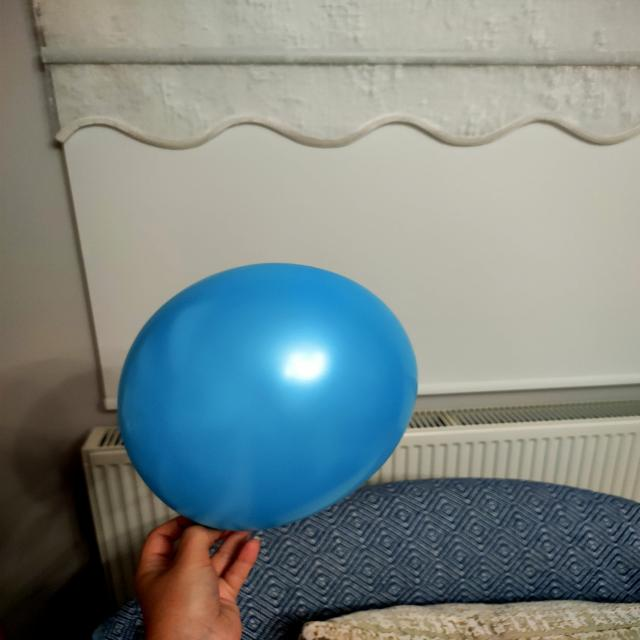blue: (112, 261, 419, 529)
